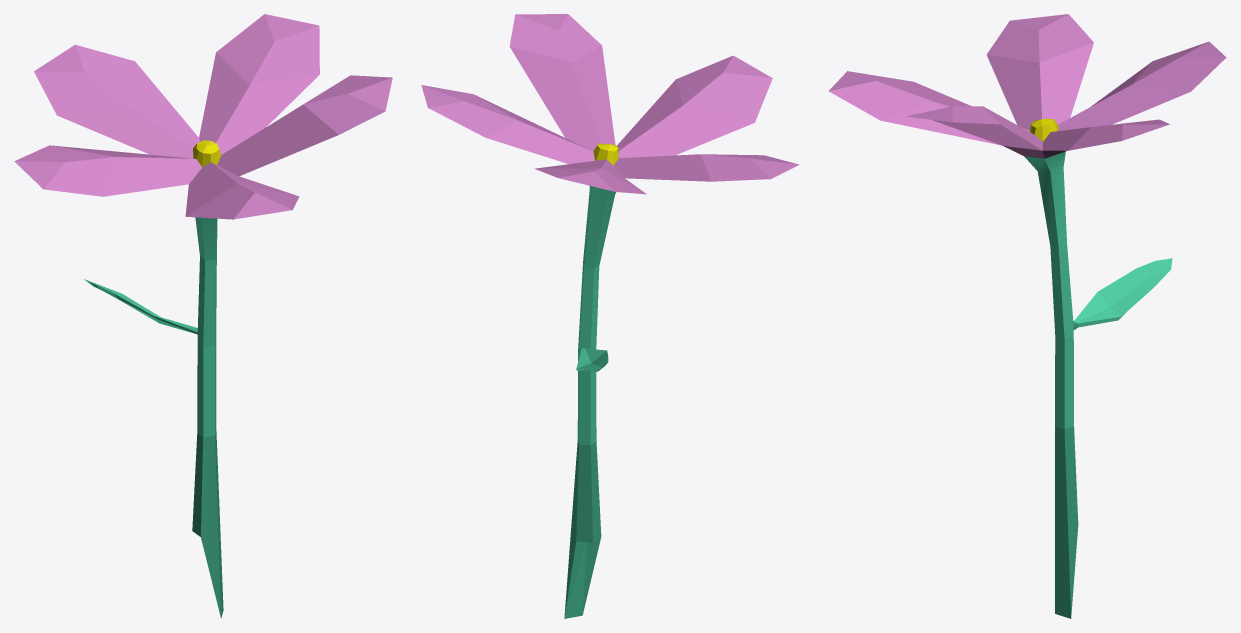
Rendered from fbxPinkflower.fbx.
The picture shows the model from 3 angles, left to right: view 1: azimuth 30°, elevation 25°; view 2: azimuth 150°, elevation 25°; view 3: azimuth 270°, elevation 25°; orthographic projection. The views are drawn at different scales.
Parts seen in each view (by area): view 1: pCylinder2; view 2: pCylinder2; view 3: pCylinder2.
Boxes of the visible parts, x1=… form: pCylinder2: x1=14, y1=14, x2=392, y2=618; pCylinder2: x1=421, y1=14, x2=799, y2=618; pCylinder2: x1=828, y1=14, x2=1226, y2=618.
Bounding box in the file's own units: 1.78 × 2.81 × 1.85.
